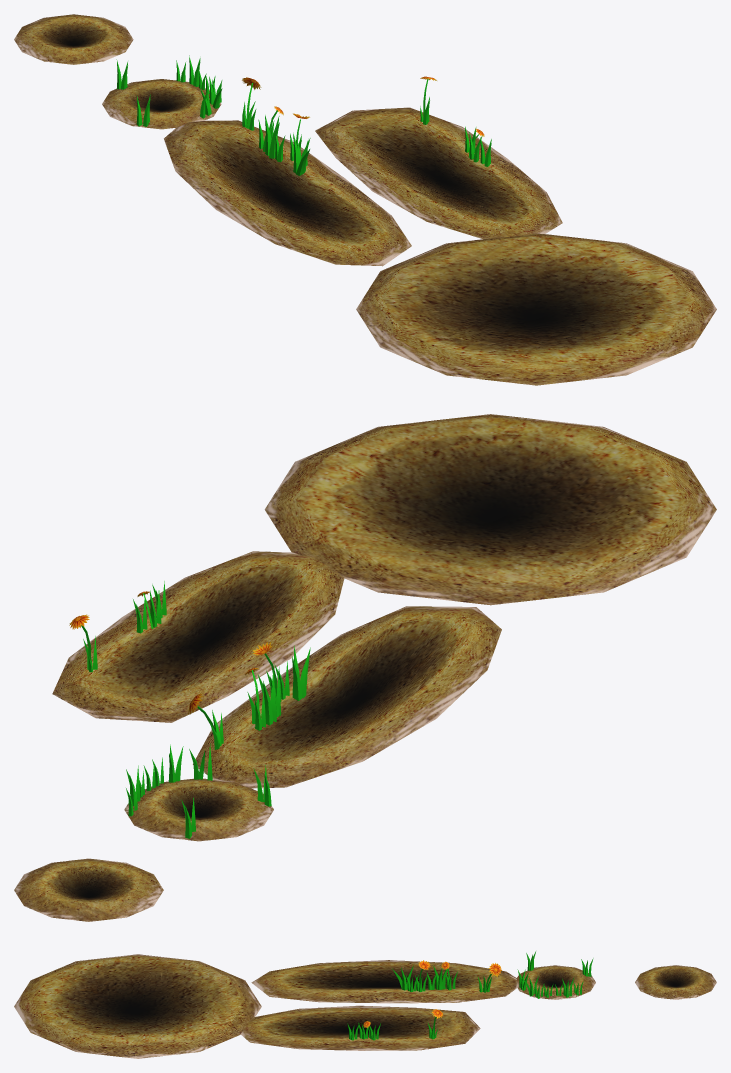
The model's file is dirtElements.fbx.
3 views of the same model, one above another, from view 1: azimuth 30°, elevation 25°; view 2: azimuth 150°, elevation 25°; view 3: azimuth 270°, elevation 25° (orthographic). The views are drawn at different scales.
Parts seen in each view (by area): view 1: polySurface49; view 2: polySurface49; view 3: polySurface49.
Boxes of the visible parts, x1,y1,x2,y2 form: polySurface49: (14,14,716,385); polySurface49: (14,414,716,921); polySurface49: (14,951,716,1058).
Bounding box in the file's own units: 5.16 × 0.9672 × 14.64.
